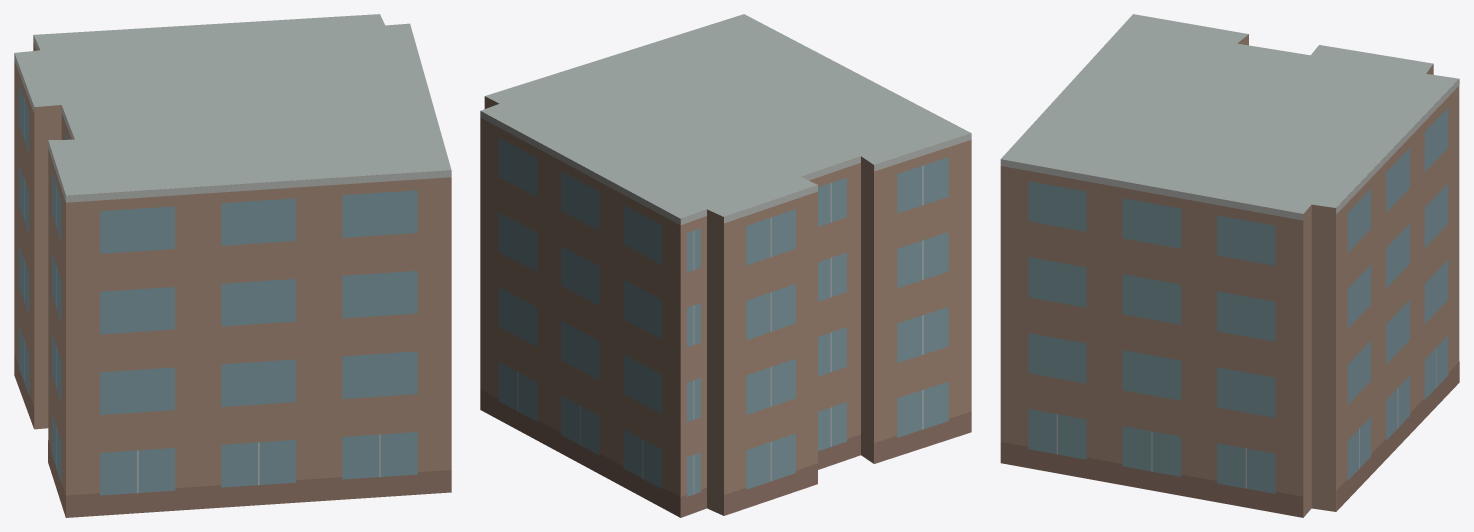
The model's file is survey-upis-32912951.glb.
The picture shows the model from 3 angles, left to right: view 1: azimuth 30°, elevation 25°; view 2: azimuth 150°, elevation 25°; view 3: azimuth 270°, elevation 25°; orthographic projection. The views are drawn at different scales.
Parts seen in each view (by area): view 1: survey-upis-32912951.tmp; view 2: survey-upis-32912951.tmp; view 3: survey-upis-32912951.tmp.
Boxes of the visible parts, x1=… form: survey-upis-32912951.tmp: x1=14, y1=14, x2=451, y2=517; survey-upis-32912951.tmp: x1=480, y1=14, x2=971, y2=517; survey-upis-32912951.tmp: x1=1000, y1=14, x2=1459, y2=517.
Size of the model in its own units: 15.67 by 11.1 by 15.2.
